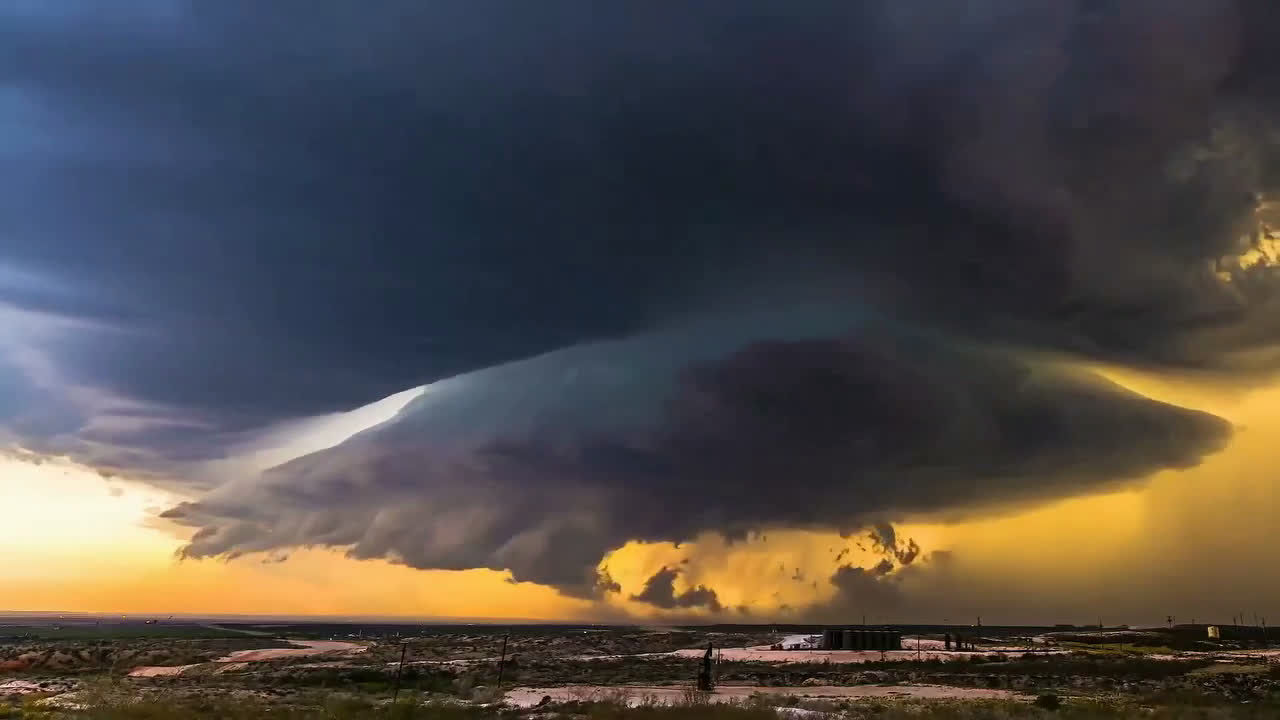FFD: (1098, 393, 1280, 629)
RFD: (578, 527, 1094, 624)
mesocyclone: (0, 1, 1277, 499)
wall cloud: (155, 328, 1247, 604)
